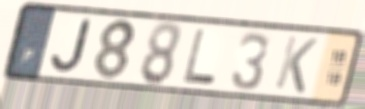3: (231, 28, 271, 93)
8: (139, 19, 183, 87), (92, 17, 137, 81)
J: (48, 17, 95, 75)
K: (271, 33, 320, 96)
L: (181, 27, 219, 87)
